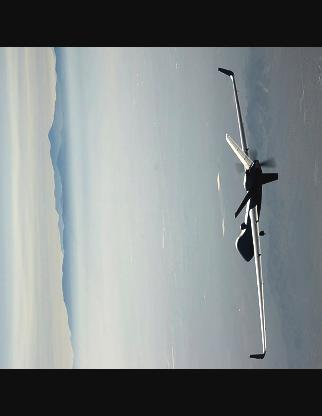MQ9: (216, 68, 278, 360)
